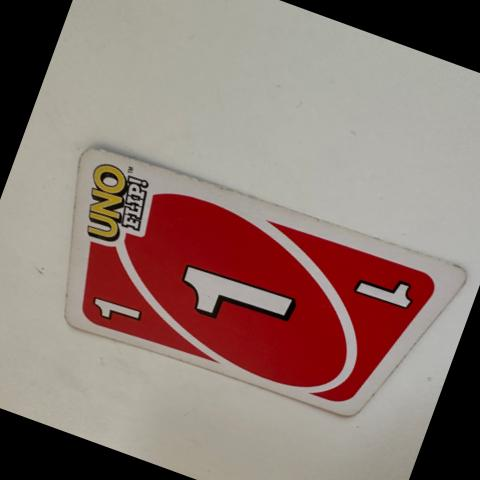lred-1: (72, 268, 158, 344)
